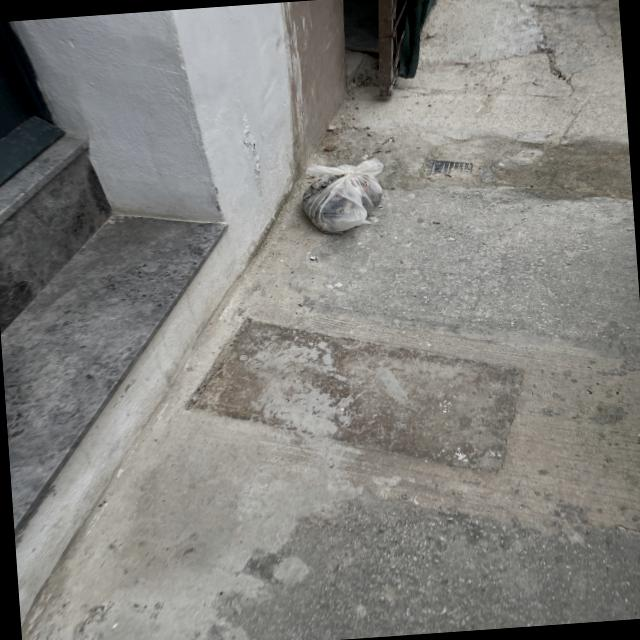white_bag: (295, 154, 390, 243)
